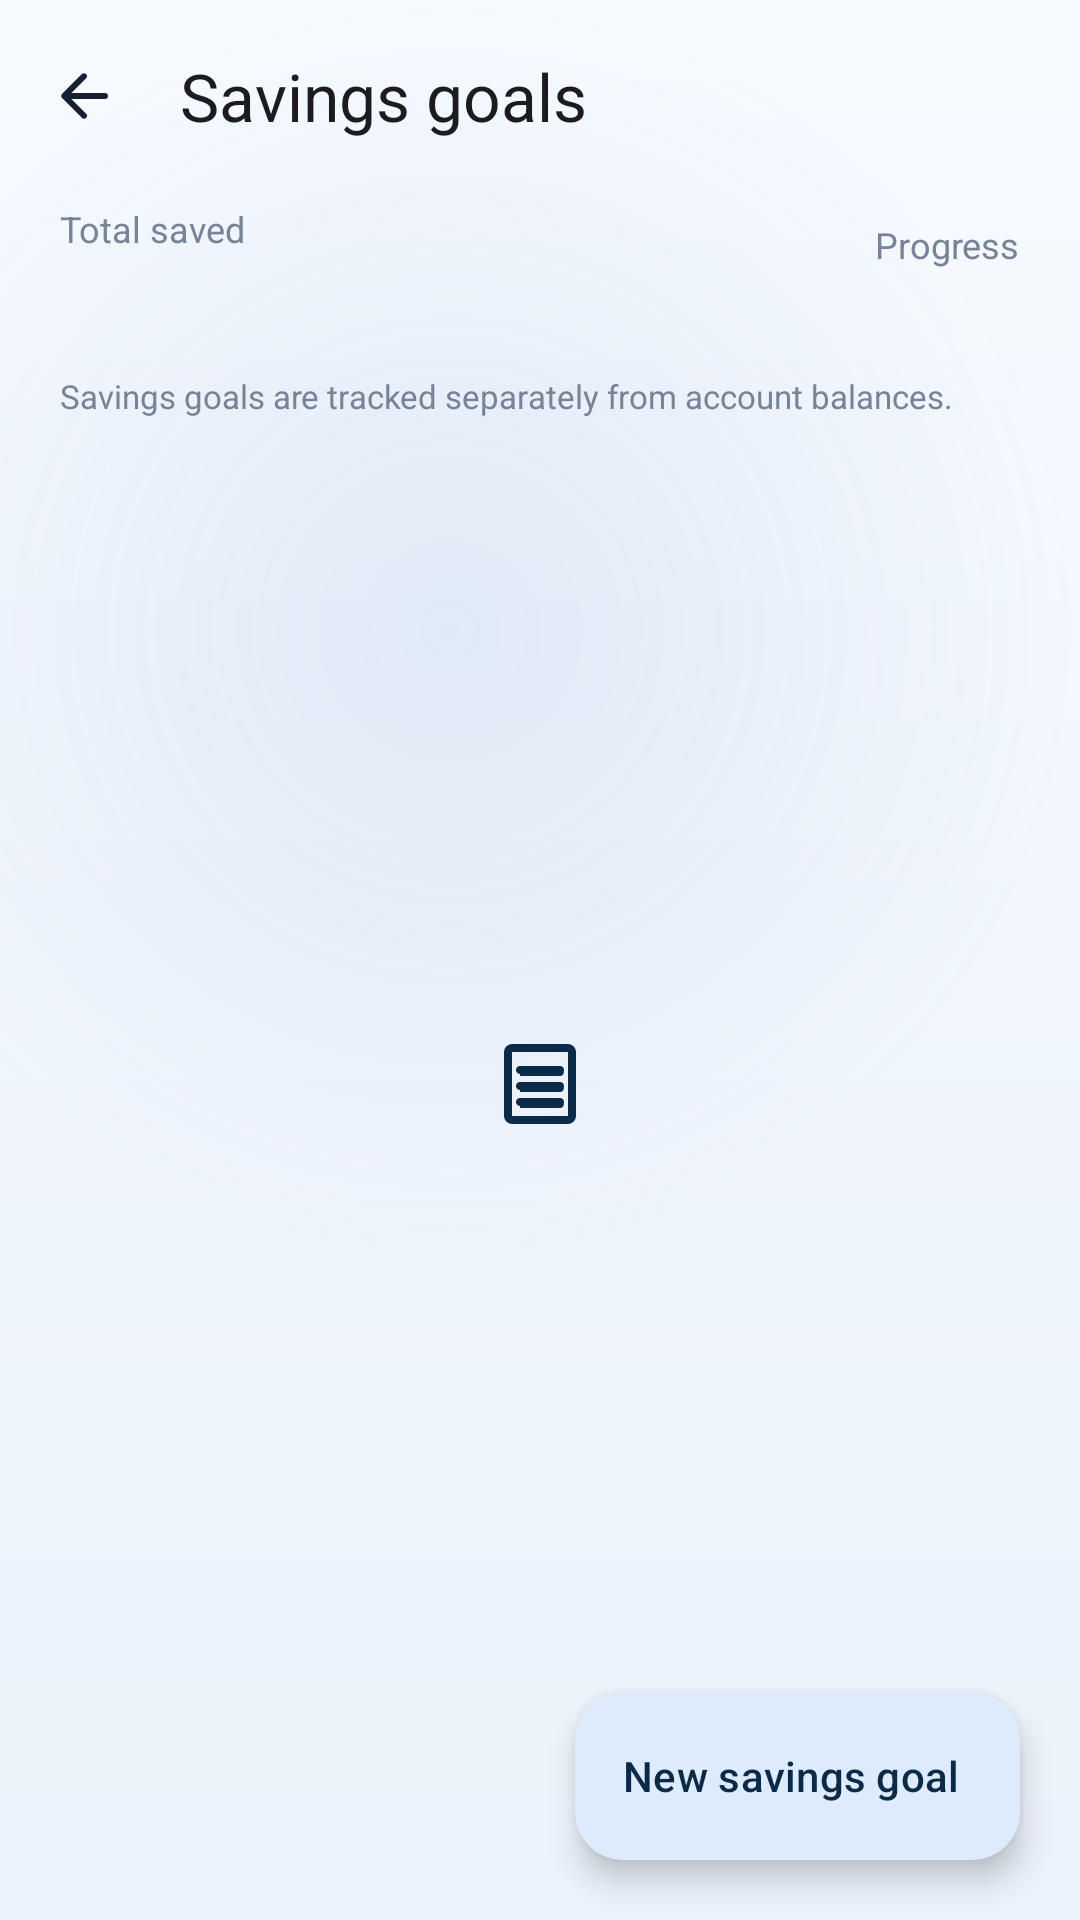

Point at icon controls on the screen. Image size 1080*1920, points as [x,y].
transactions: [540,1084]
